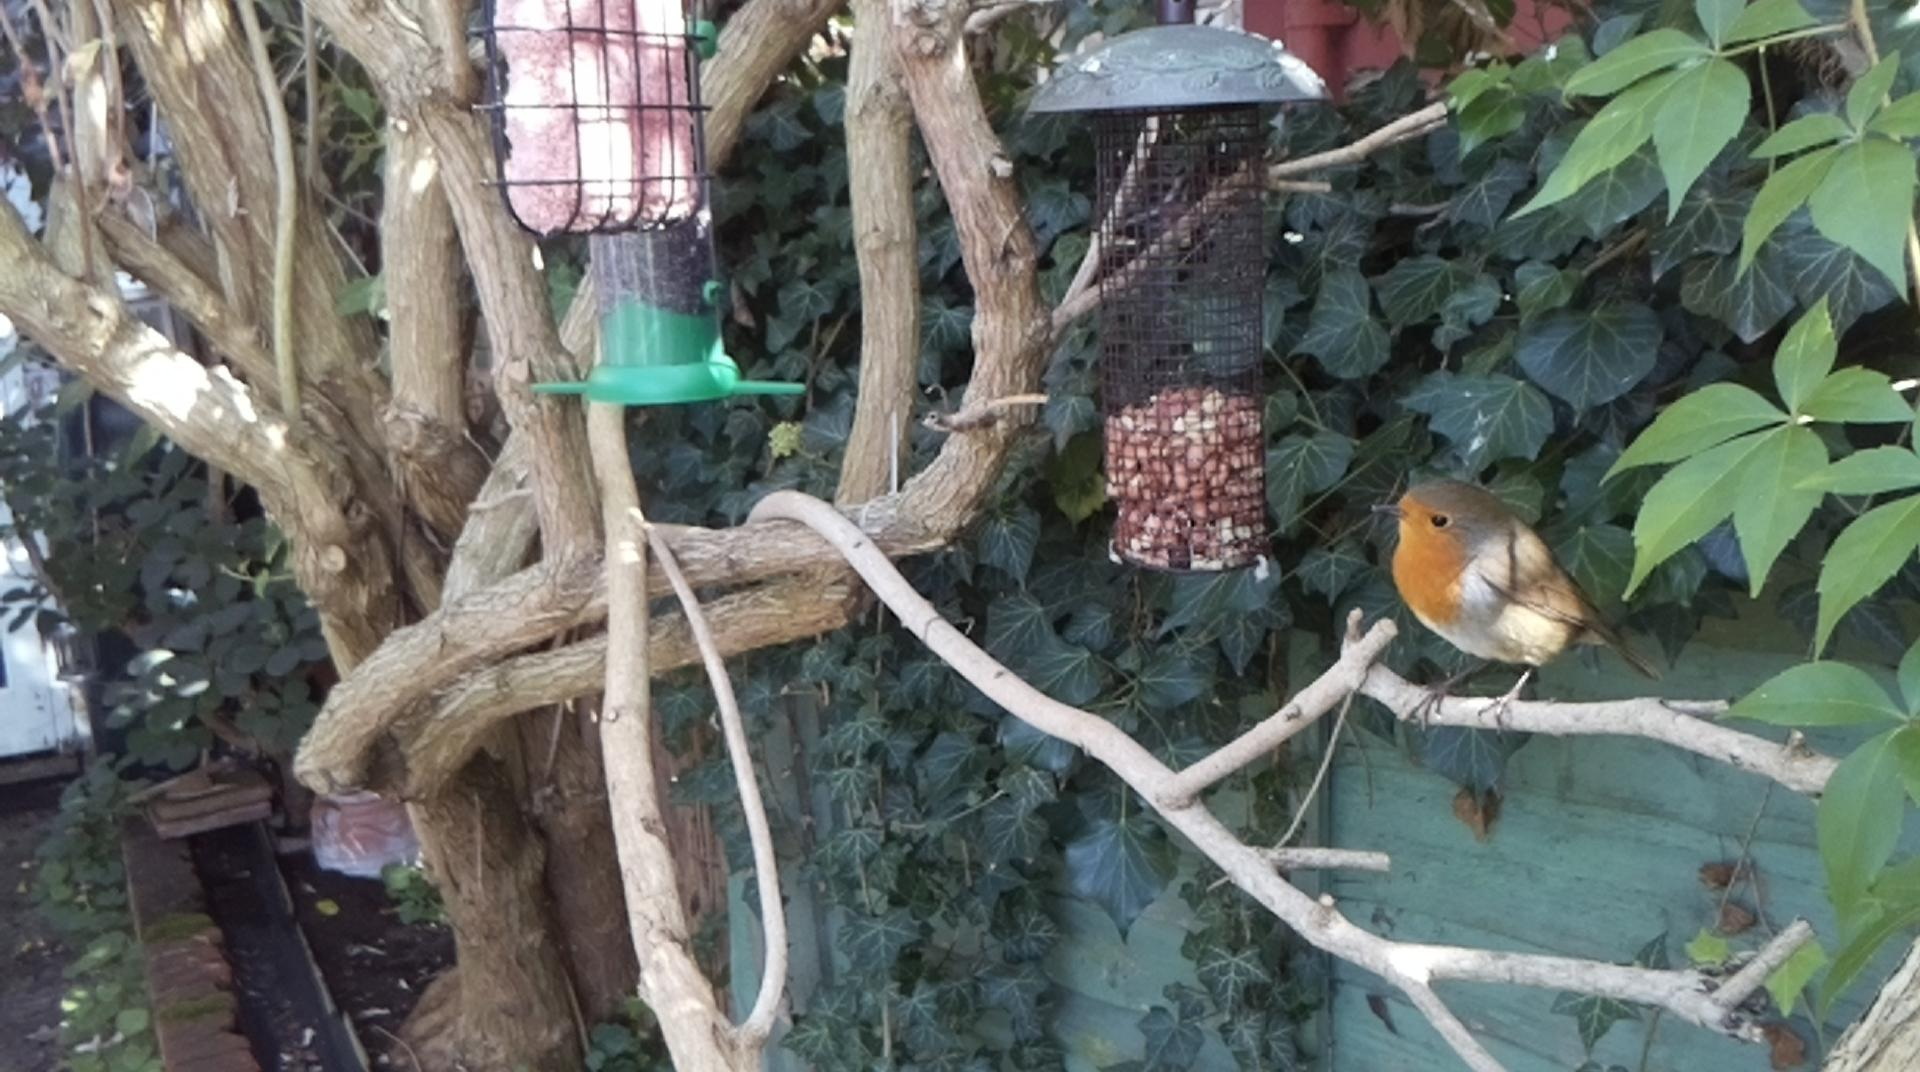robin: (1370, 479, 1665, 744)
